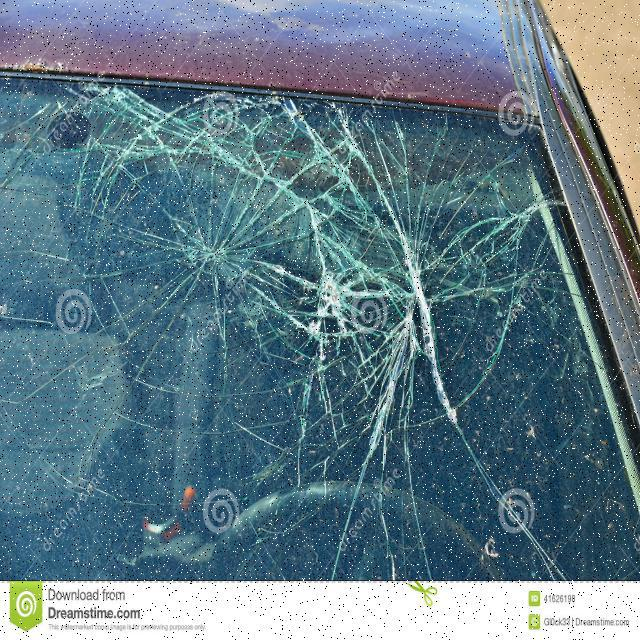Front-Windscreen-Damage: (1, 54, 613, 567)
